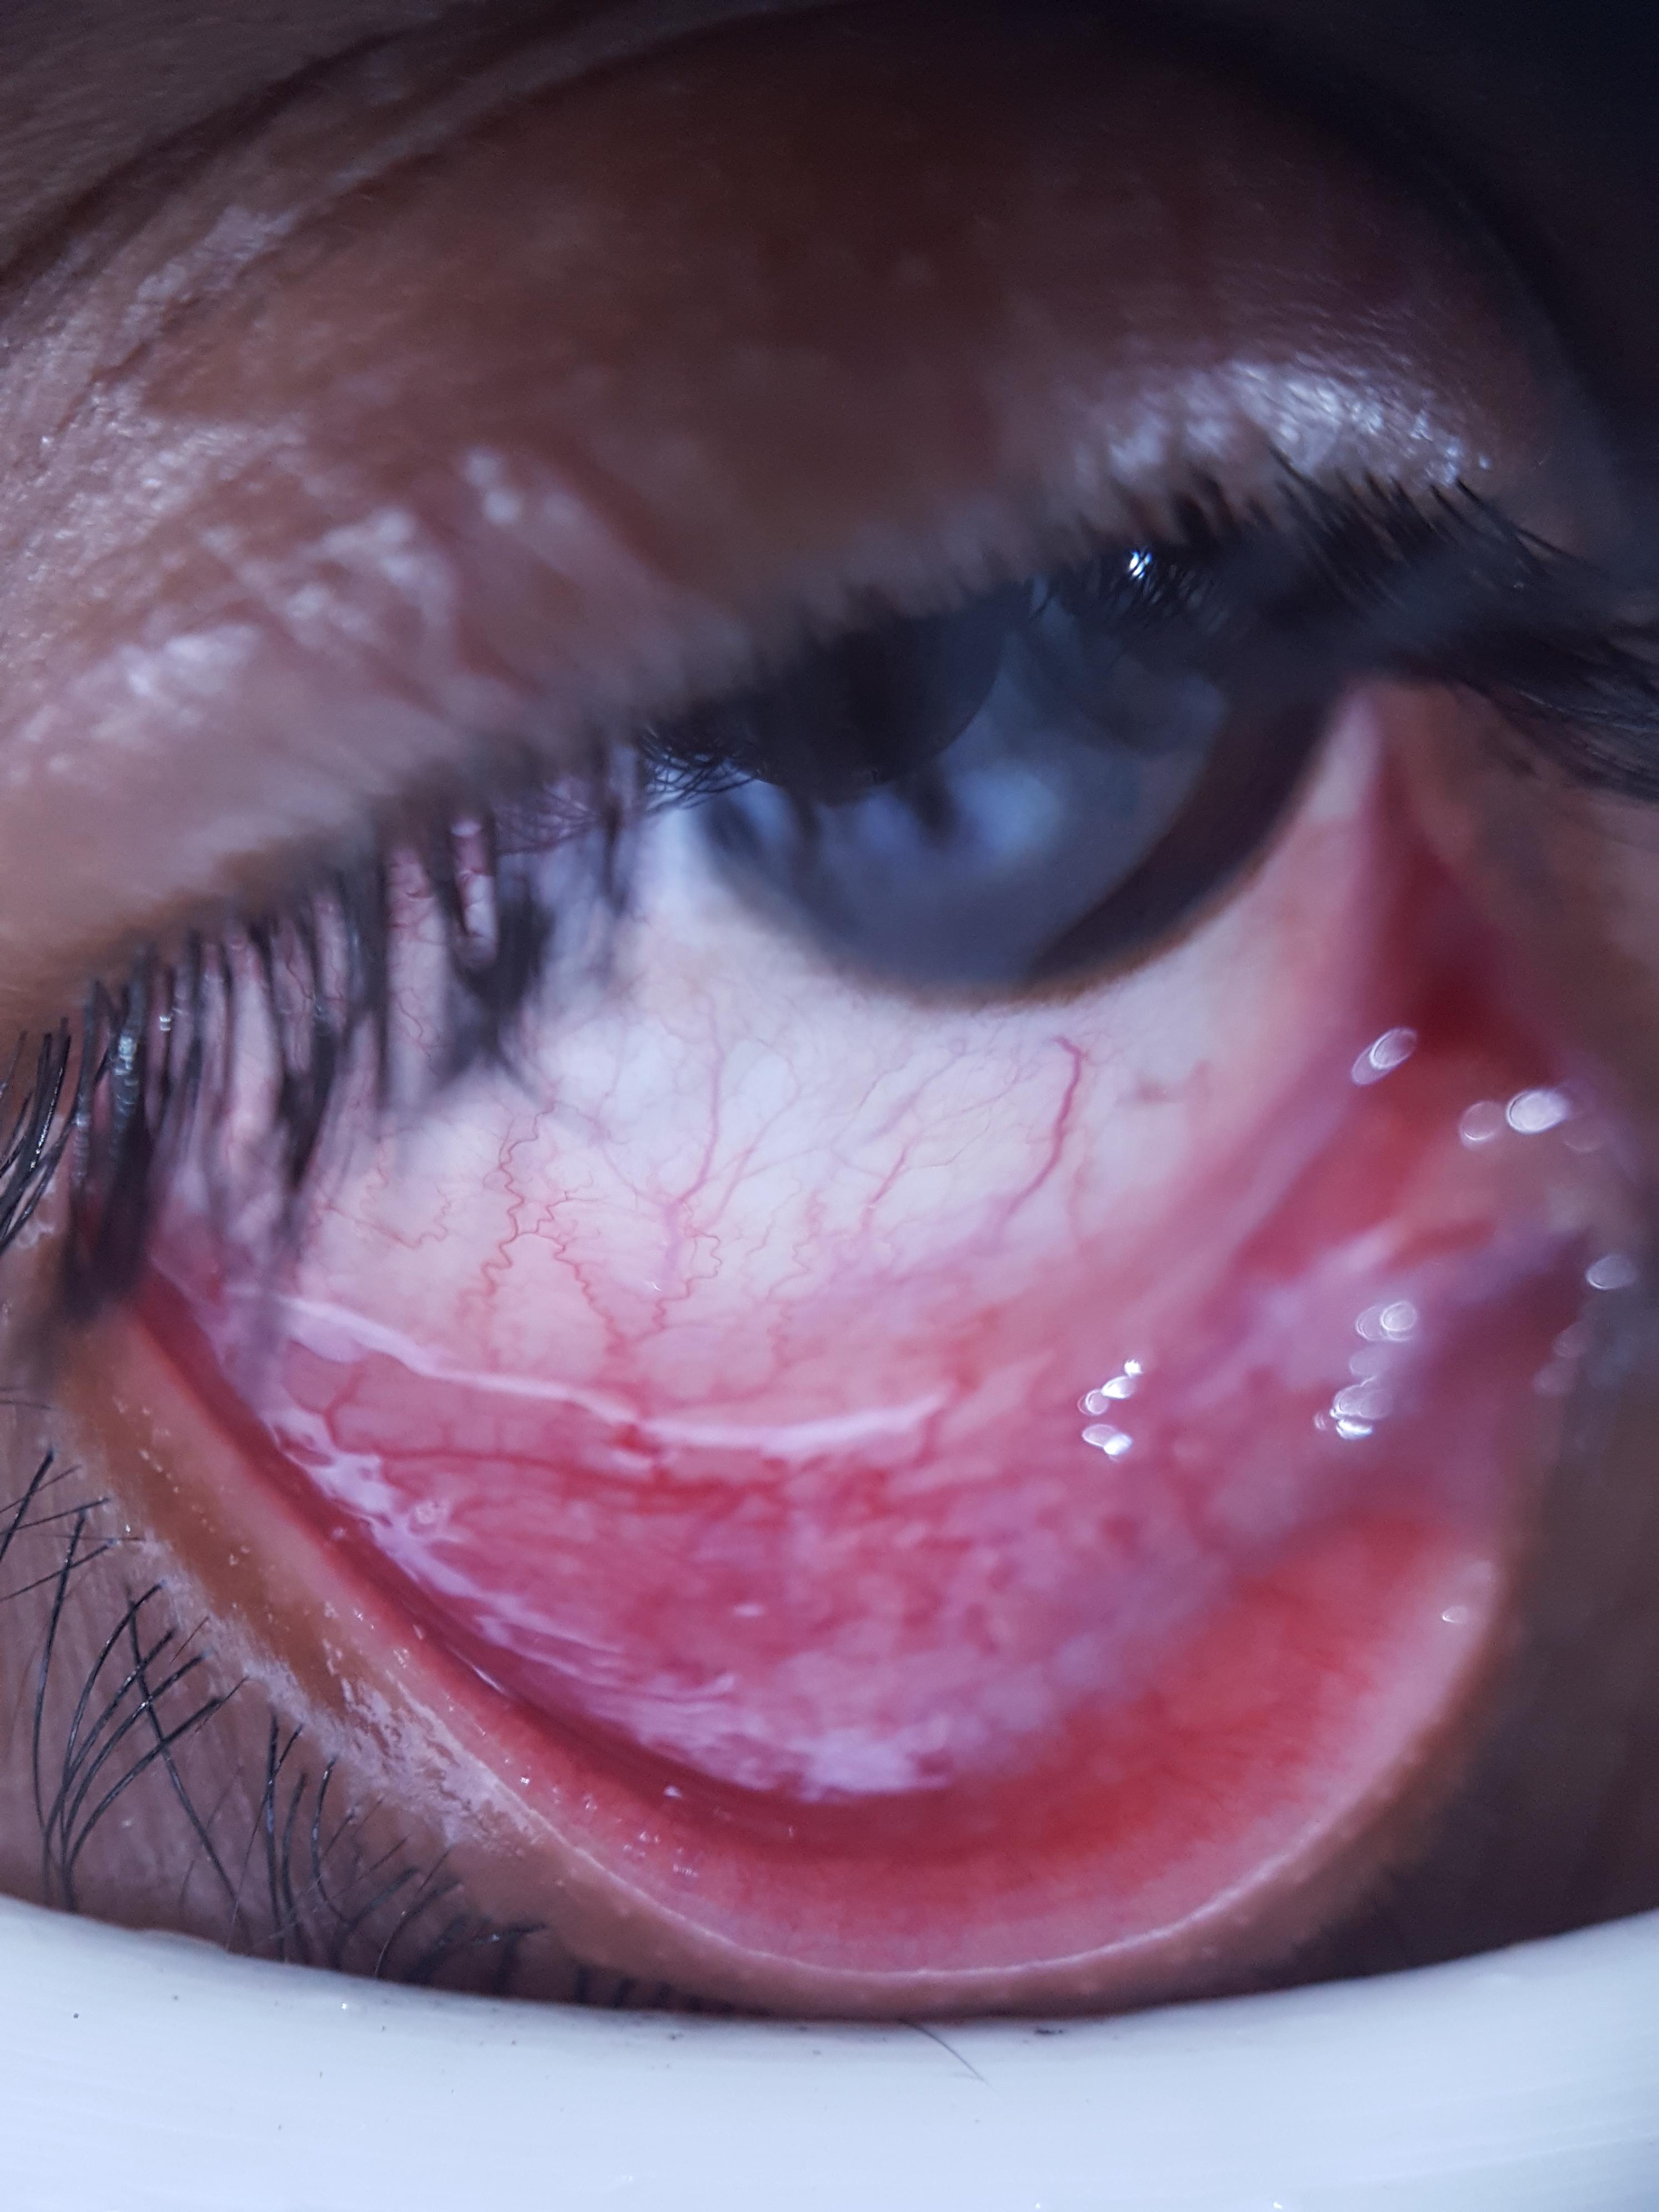forniceal: (204, 1031, 1577, 1808)
forniceal_palpebral: (146, 1017, 1588, 1939)
palpebral: (159, 1226, 1584, 1925)
